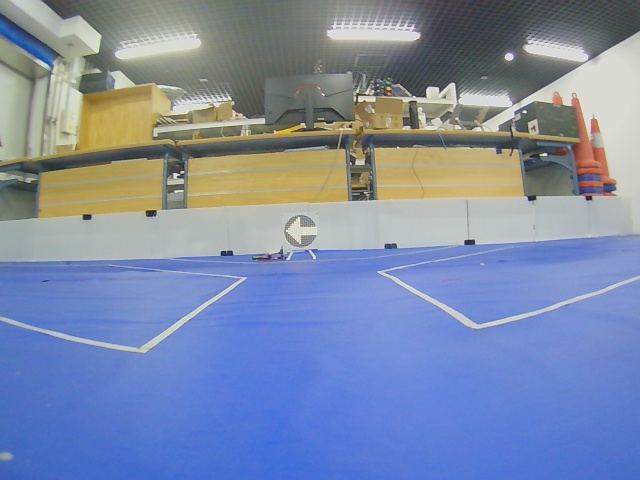left_yellow: (285, 215, 317, 248)
